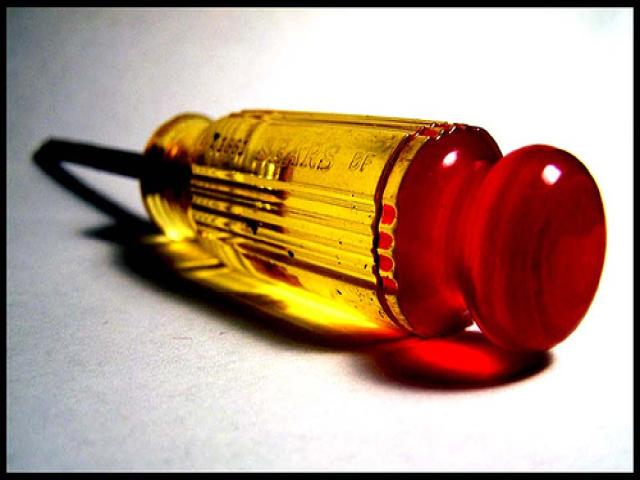Screwdriver: (36, 110, 606, 354)
